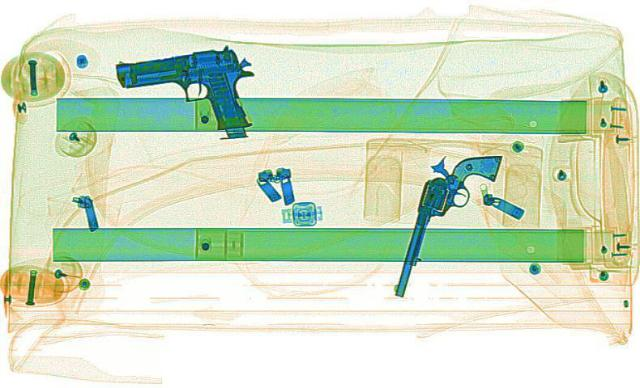Gun: (392, 147, 500, 299), (108, 44, 274, 137)
